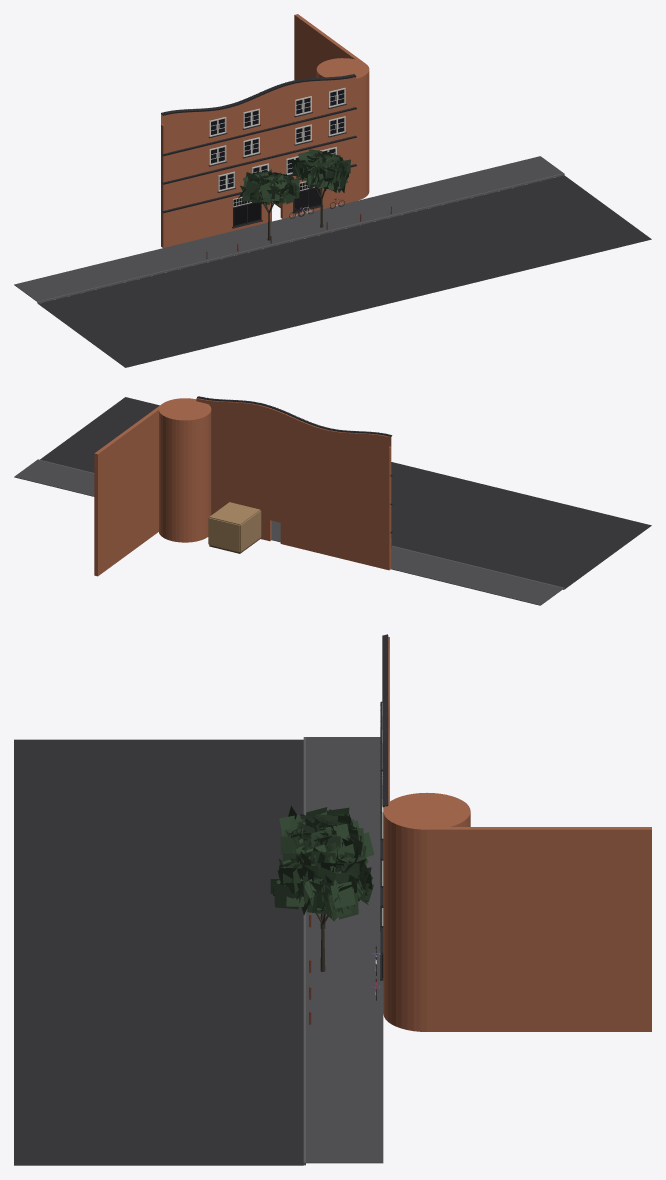
The model's file is street.glb.
3 views of the same model, one above another, from view 1: azimuth 30°, elevation 25°; view 2: azimuth 150°, elevation 25°; view 3: azimuth 270°, elevation 25° (orthographic). The views are drawn at different scales.
Parts seen in each view (by area): view 1: road, brick, pavement, leaf, tile, trim, glass, kerb, shop_glass; view 2: brick, road, pavement, cafe_wall, tile, kerb; view 3: road, brick, pavement, leaf, tile, kerb.
Part boxes in pixels (<box>): road: <box>38,175,651,367</box>; brick: <box>161,14,369,247</box>; pavement: <box>14,156,563,301</box>; leaf: <box>238,149,350,206</box>; tile: <box>161,74,356,228</box>; trim: <box>209,88,345,207</box>; glass: <box>211,89,343,189</box>; kerb: <box>37,173,564,303</box>; shop_glass: <box>233,182,309,225</box>; brick: <box>94,398,391,576</box>; road: <box>40,397,651,589</box>; pavement: <box>14,460,563,605</box>; cafe_wall: <box>208,502,261,552</box>; tile: <box>197,396,392,533</box>; kerb: <box>37,459,564,589</box>; road: <box>14,739,303,1165</box>; brick: <box>383,637,651,1031</box>; pavement: <box>306,737,383,1163</box>; leaf: <box>270,806,374,921</box>; tile: <box>380,634,388,980</box>; kerb: <box>303,737,305,1165</box>.
Size of the model in its own units: 60 by 14.86 by 38.
